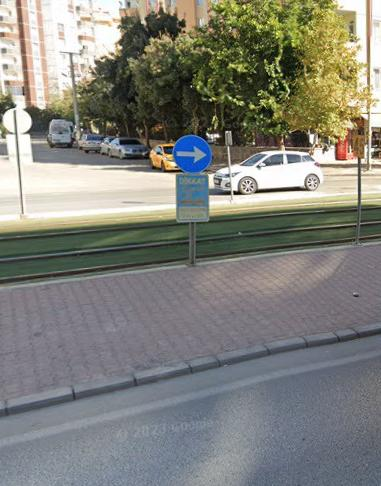turnright: (177, 135, 212, 173)
